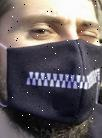with_mask: (2, 1, 102, 138)
